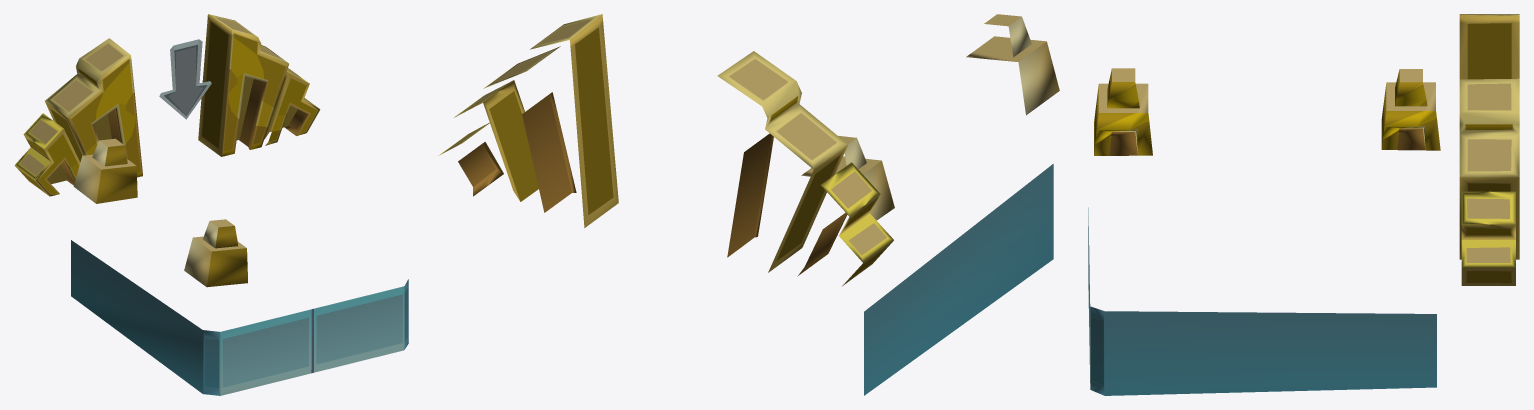
Rendered from StonePassageGoldMosaic.glb.
3 views of the same model, side by side, from view 1: azimuth 30°, elevation 25°; view 2: azimuth 150°, elevation 25°; view 3: azimuth 270°, elevation 25° (orthographic). The views are drawn at different scales.
Parts seen in each view (by area): view 1: StonePassageGoldMosaic; view 2: StonePassageGoldMosaic; view 3: StonePassageGoldMosaic.
Part boxes in pixels (x1,y1,x2,y2): StonePassageGoldMosaic: (14, 14, 408, 395); StonePassageGoldMosaic: (438, 14, 1059, 395); StonePassageGoldMosaic: (1088, 14, 1519, 395).
Size of the model in its own units: 2.7 by 2.04 by 2.71.
